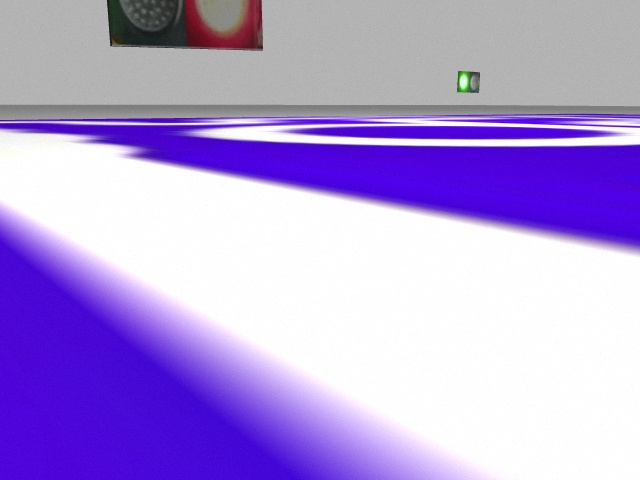red: (185, 2, 264, 48)
